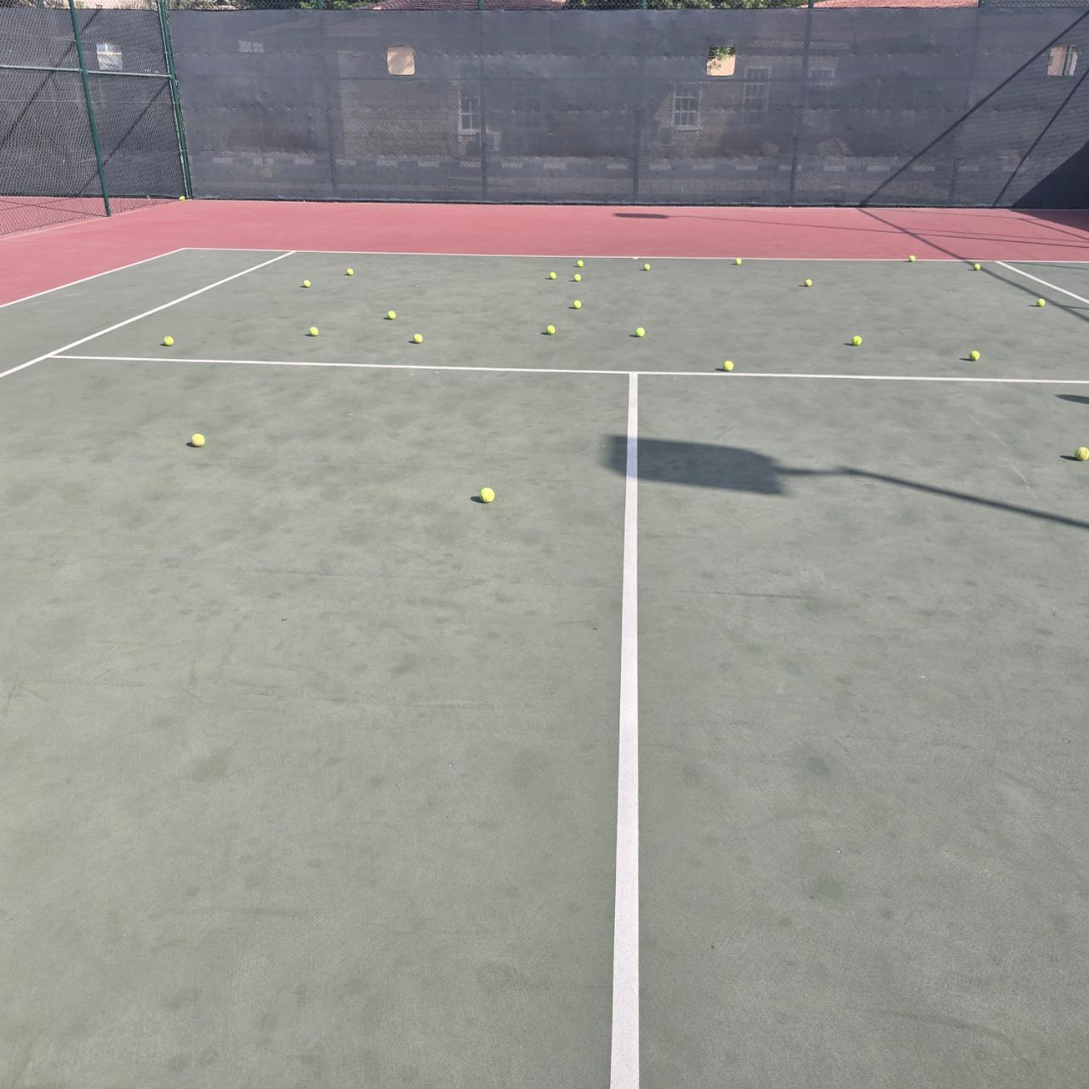tennis-ball: (478, 484, 495, 503), (188, 430, 205, 447), (1074, 444, 1088, 461), (412, 333, 424, 344), (723, 360, 734, 372), (969, 350, 980, 361), (163, 335, 173, 346), (309, 326, 319, 337), (546, 324, 556, 335), (852, 335, 862, 346), (386, 310, 396, 320), (635, 327, 645, 337), (573, 300, 582, 309), (549, 271, 557, 281), (302, 279, 311, 287), (574, 273, 582, 282), (804, 278, 812, 287), (1036, 298, 1045, 306), (576, 259, 584, 267), (643, 263, 651, 271), (734, 258, 742, 266), (973, 263, 981, 271), (346, 268, 354, 275), (908, 255, 915, 262), (179, 195, 185, 202)
